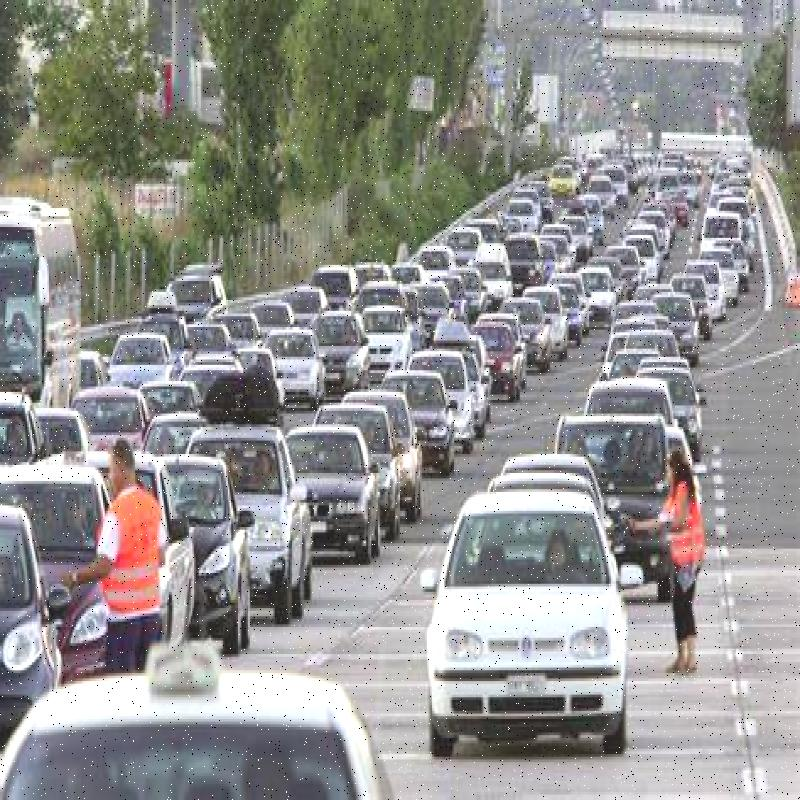car: (426, 497, 611, 738), (545, 410, 690, 610), (182, 420, 328, 615), (6, 474, 124, 690), (152, 449, 240, 631), (285, 434, 375, 564), (344, 382, 426, 523), (314, 406, 395, 540), (403, 346, 476, 434), (256, 326, 322, 409)
